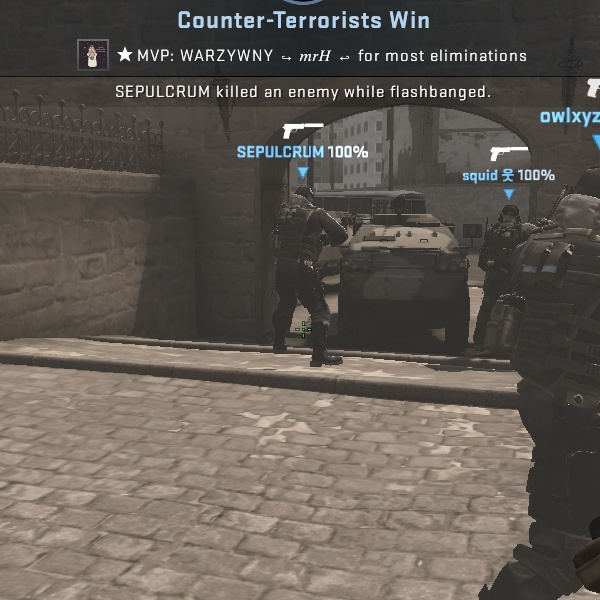ct_body: (259, 185, 346, 363), (474, 205, 522, 357)
ct_head: (290, 182, 322, 212), (493, 202, 521, 233)
